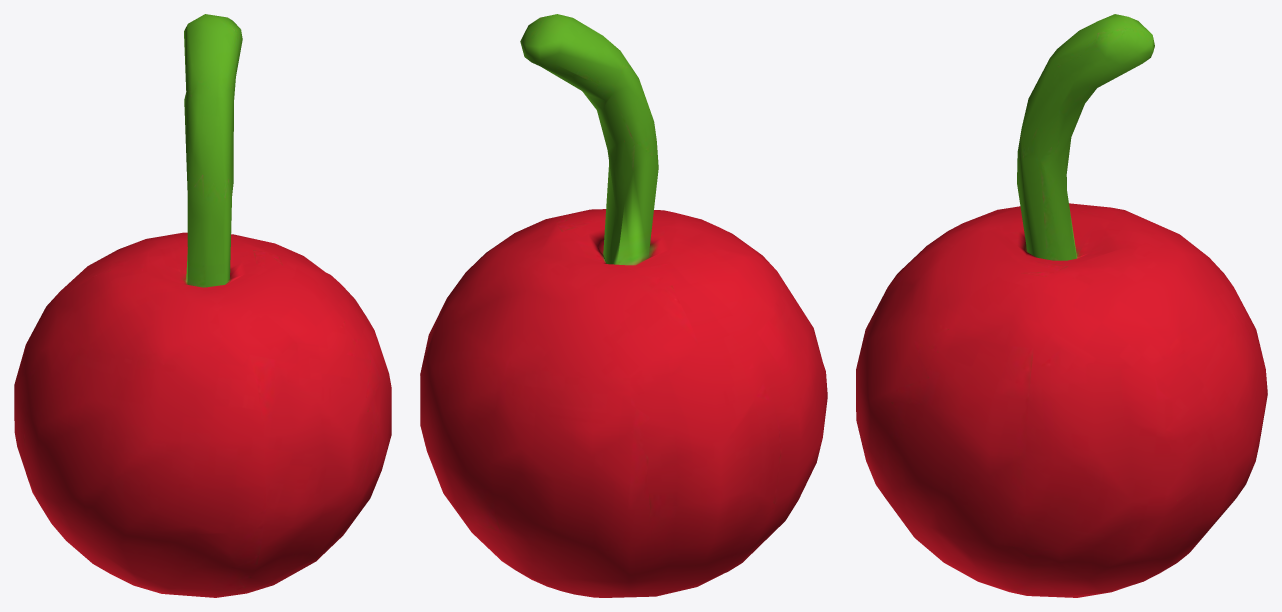
Rendered from cherry.glb.
3 views of the same model, side by side, from view 1: azimuth 30°, elevation 25°; view 2: azimuth 150°, elevation 25°; view 3: azimuth 270°, elevation 25° (orthographic). The views are drawn at different scales.
Visible parts, largest first — view 1: tripo_node_957f2512-82f2-432f-8fb3-3a6edb8dd751; view 2: tripo_node_957f2512-82f2-432f-8fb3-3a6edb8dd751; view 3: tripo_node_957f2512-82f2-432f-8fb3-3a6edb8dd751.
Boxes of the visible parts, x1,y1,x2,y2 form: tripo_node_957f2512-82f2-432f-8fb3-3a6edb8dd751: [14, 14, 391, 597]; tripo_node_957f2512-82f2-432f-8fb3-3a6edb8dd751: [420, 14, 827, 597]; tripo_node_957f2512-82f2-432f-8fb3-3a6edb8dd751: [856, 14, 1267, 597].
Bounding box in the file's own units: 0.6345 × 0.9786 × 0.6343.
Materials: 1 (1 with a texture image).
